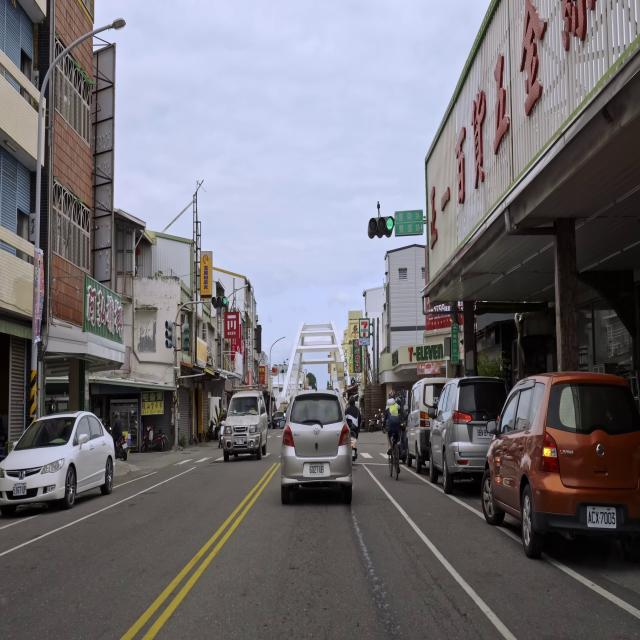green light: (368, 217, 394, 232), (211, 297, 227, 306)
